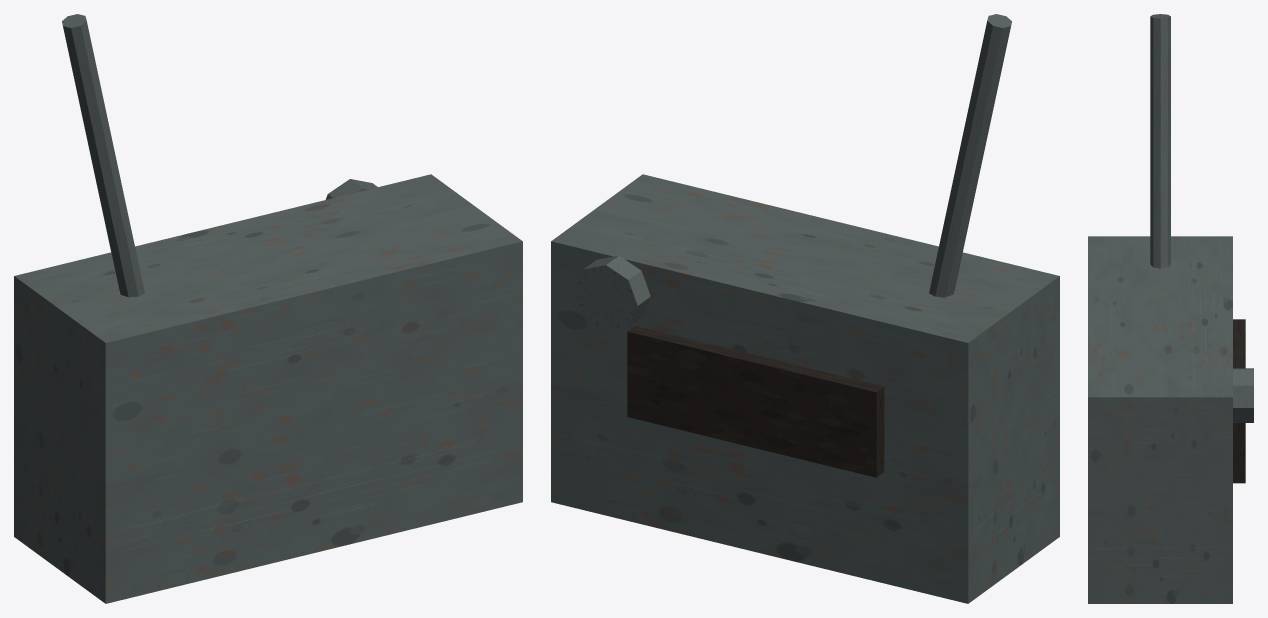
File: pr-005_portable_radio__repaired.obj
3 renders of one model, left to right at view 1: azimuth 30°, elevation 25°; view 2: azimuth 150°, elevation 25°; view 3: azimuth 270°, elevation 25°, orthographic. The views are drawn at different scales.
Visible parts, largest first — view 1: pr-005_portable_radio__repaired; view 2: pr-005_portable_radio__repaired; view 3: pr-005_portable_radio__repaired.
Part boxes in pixels (x1,y1,x2,y2): pr-005_portable_radio__repaired: [14, 14, 522, 603]; pr-005_portable_radio__repaired: [551, 14, 1059, 603]; pr-005_portable_radio__repaired: [1088, 14, 1253, 603].
Size of the model in its own units: 0.92 by 1.16 by 0.4.
2 materials, 2 textured.
